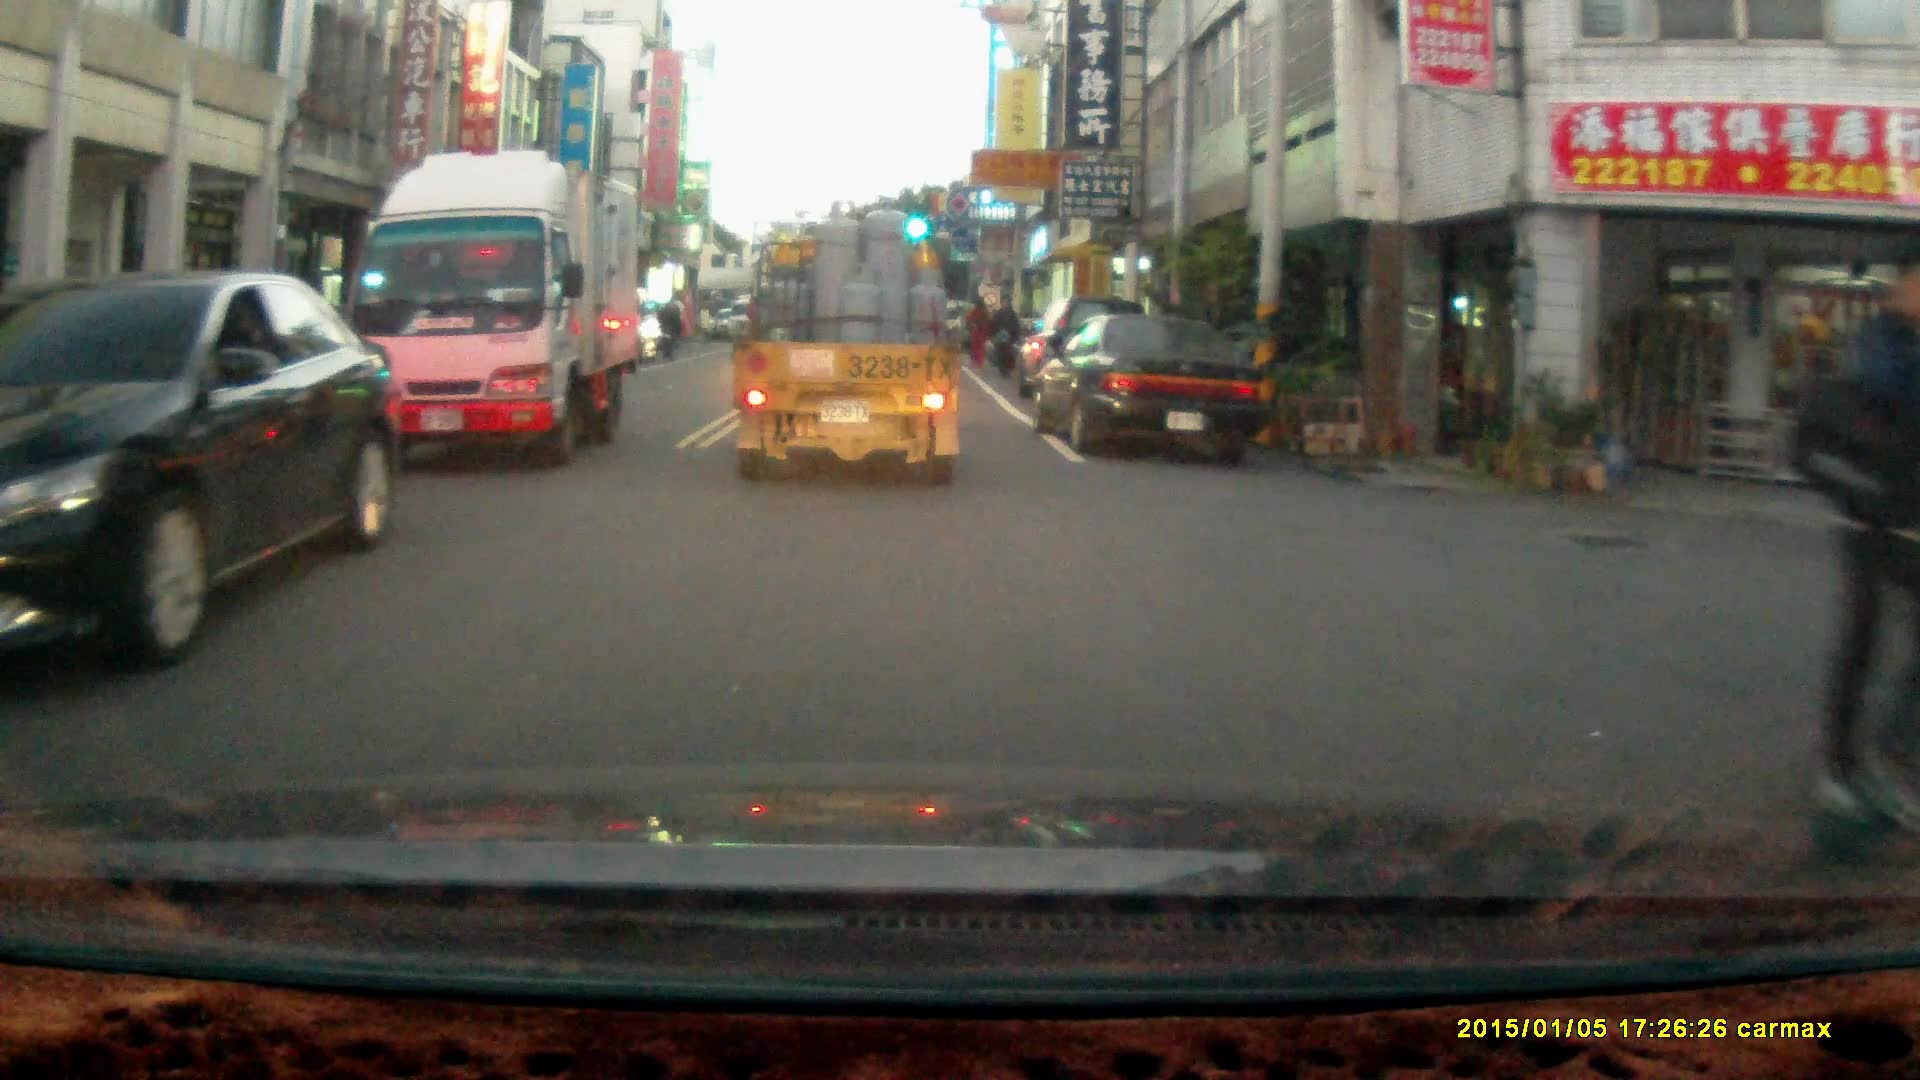pedestrian: (1810, 250, 1920, 837), (988, 295, 1019, 381), (963, 292, 993, 367), (655, 298, 684, 361)
vehicle: (1, 267, 397, 668), (344, 150, 641, 473), (731, 193, 966, 489), (1038, 310, 1266, 459)
